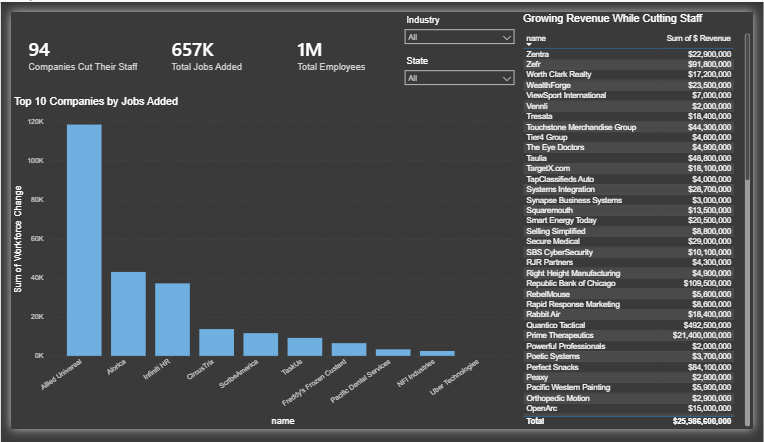

The dashboard page shown, as its layout file describes it:
{"tool":"powerbi","page":{"name":"Page 2","canvas":[1280,720],"ordinal":1},"visuals":[{"type":"cardVisual","title":"While","fields":{"Data":["Count(INC 5000 Companies 2019 (2).name)"]},"box":[0,0,246.7,143.2],"z":0},{"type":"clusteredColumnChart","title":"Top 10 Companies by Jobs Added","fields":{"Category":["INC 5000 Companies 2019 (2).name"],"Y":["Sum(INC 5000 Companies 2019 (2).Workforce Change)"]},"box":[0,144,878,576],"z":1000},{"type":"tableEx","title":"Growing Revenue While Cutting Staff","fields":{"Values":["INC 5000 Companies 2019 (2).name","Sum(INC 5000 Companies 2019 (2).$ Revenue)"]},"box":[878,0,402,720],"z":2000},{"type":"slicer","fields":{"Values":["INC 5000 Companies 2019 (2).industry"]},"box":[669.3,0,208.7,72.5],"z":3000},{"type":"slicer","fields":{"Values":["INC 5000 Companies 2019 (2).state"]},"box":[669.3,70.7,208.7,72.5],"z":4000},{"type":"cardVisual","fields":{"Data":["Sum(INC 5000 Companies 2019 (2).Workforce Change)"]},"box":[246.7,0,217.4,143.2],"z":4001},{"type":"cardVisual","fields":{"Data":["Sum(INC 5000 Companies 2019 (2).workers)"]},"box":[464,0,205.3,143.2],"z":4002}]}

Visuals, with their boxes in screenshot pixels (x1, y1, x2, y2), scaled from the page's 1280x720 canvas onto the 764x442 screenshot:
"While" cardVisual: locate(0, 0, 147, 88)
"Top 10 Companies by Jobs Added" clusteredColumnChart: locate(0, 88, 524, 441)
"Growing Revenue While Cutting Staff" tableEx: locate(524, 0, 763, 441)
slicer - INC 5000 Companies 2019 (2).industry: locate(399, 0, 524, 45)
slicer - INC 5000 Companies 2019 (2).state: locate(399, 43, 524, 88)
cardVisual - Sum(INC 5000 Companies 2019 (2).Workforce Change): locate(147, 0, 277, 88)
cardVisual - Sum(INC 5000 Companies 2019 (2).workers): locate(277, 0, 399, 88)
